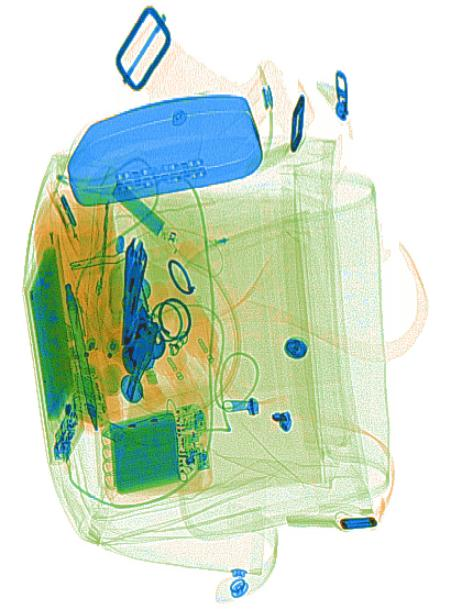plasticBottleWithaNozzle: (133, 252, 242, 403), (123, 279, 208, 416)
